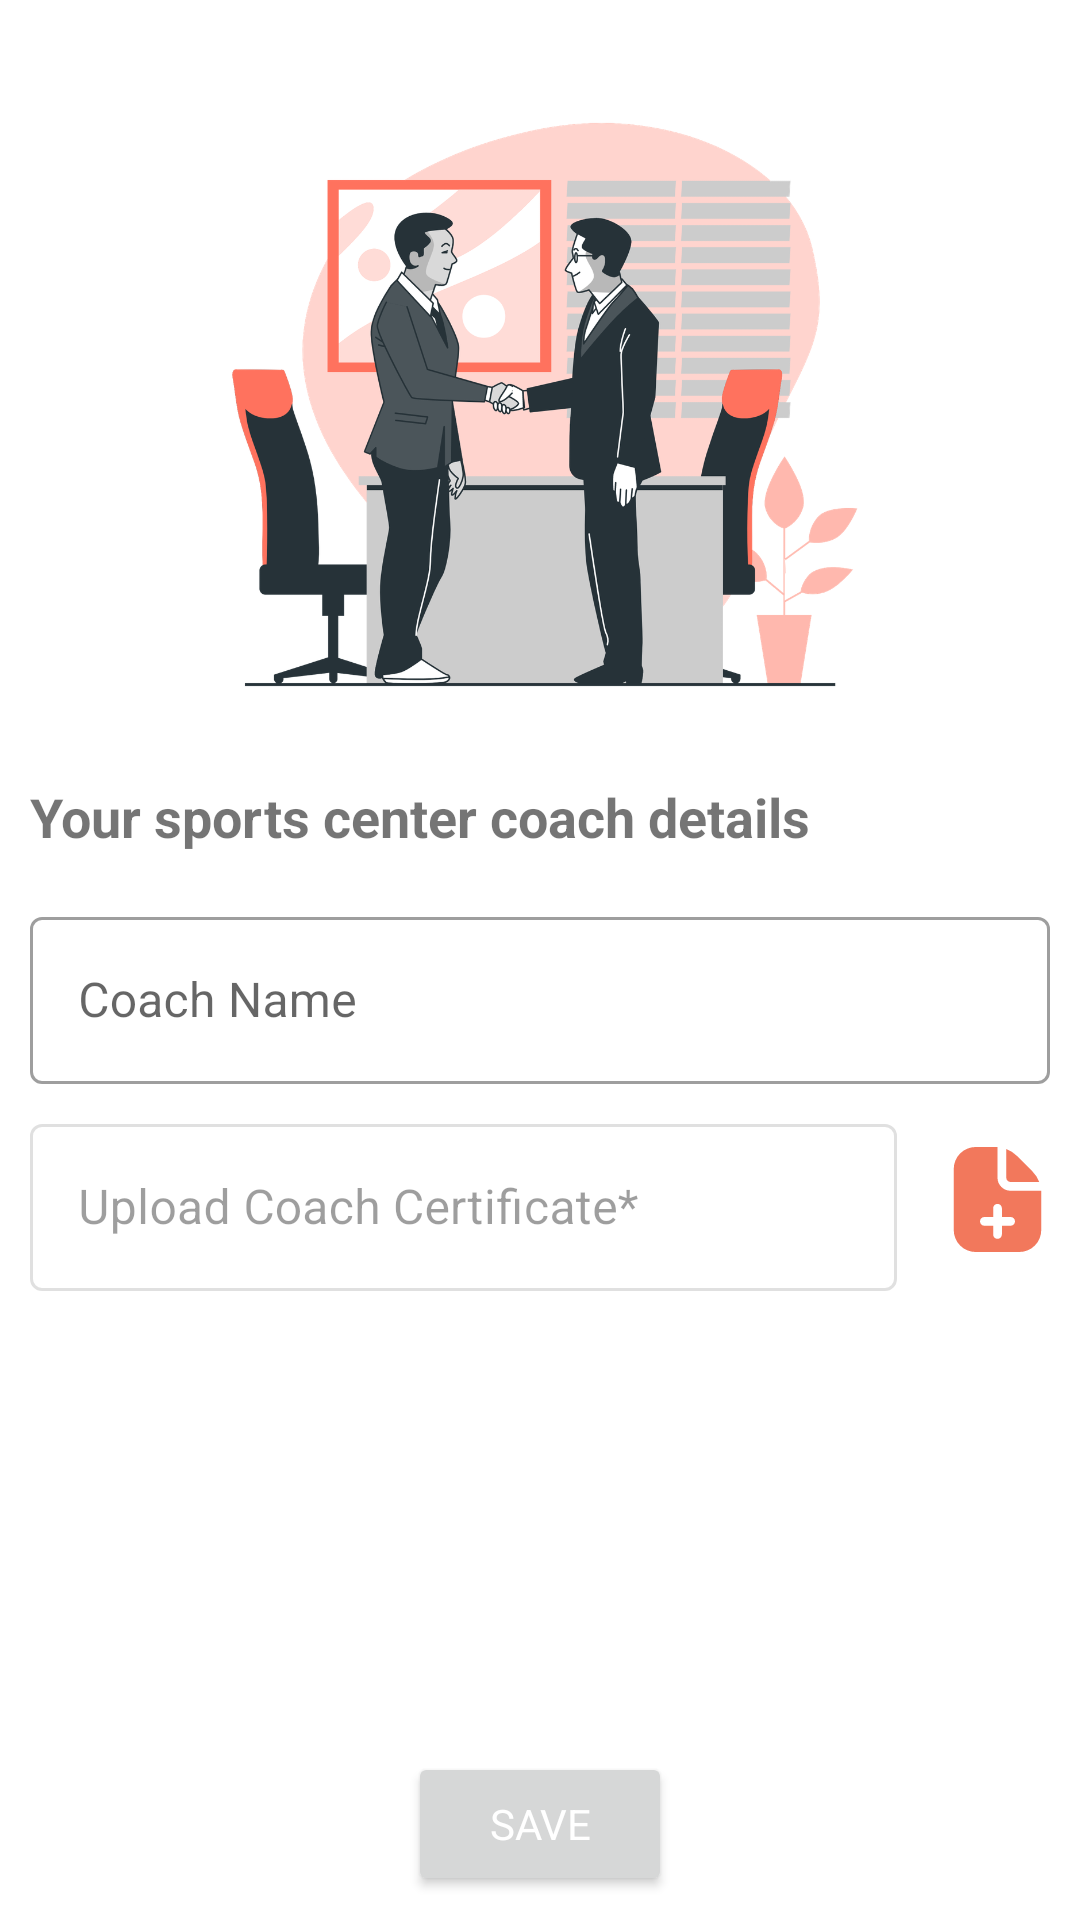

Where icons sit on this 1080px×1920px app screen, as bbox(x1, y1, x2, y2):
add document: bbox(953, 1147, 1042, 1252)
